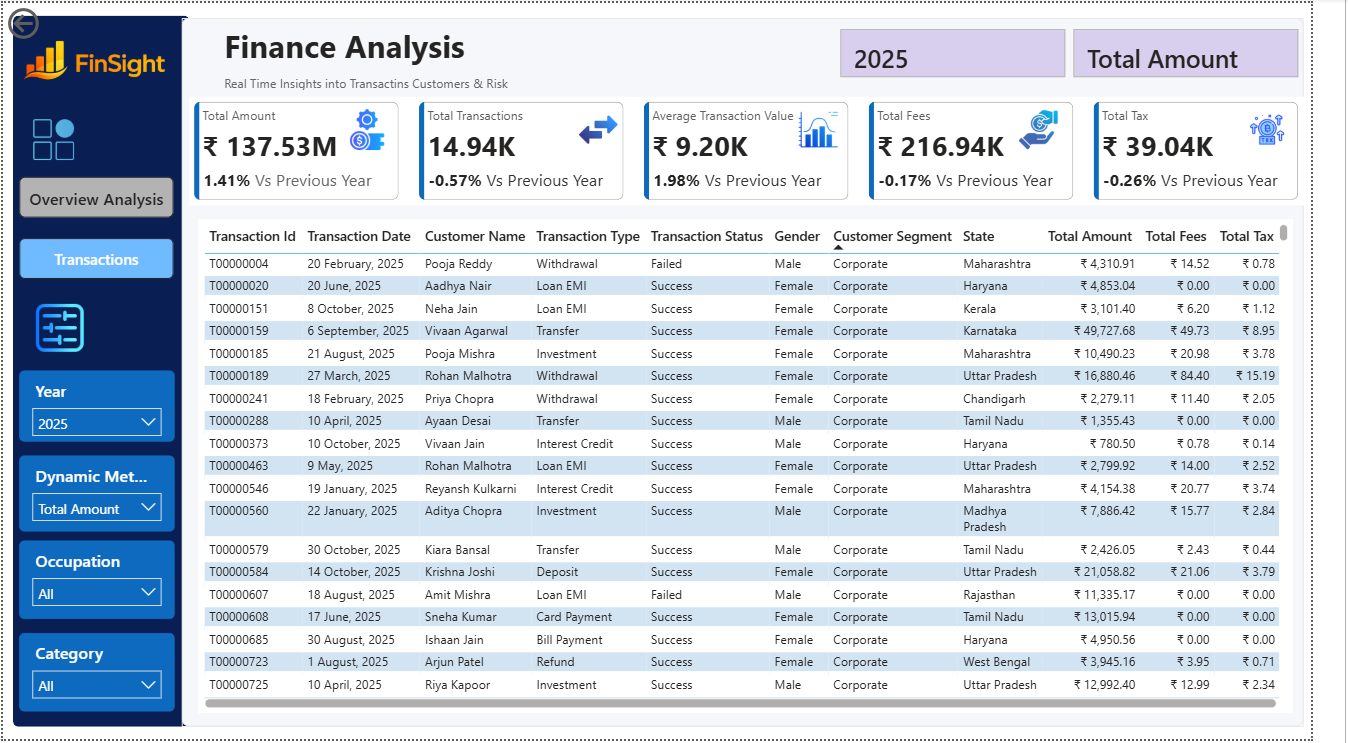

The dashboard page shown, as its layout file describes it:
{"tool":"powerbi","page":{"name":"Transactions ","canvas":[1280,720],"ordinal":1},"visuals":[{"type":"shape","box":[9.8,12.2,172.4,695.8],"z":0},{"type":"shape","box":[175.2,15.1,1097.5,693.1],"z":1000},{"type":"image","box":[9.8,20.8,162.6,70.9],"z":2000},{"type":"cardVisual","fields":{"Data":["finance_transactions.Dashboard Title"]},"box":[199.3,17.1,313,73],"z":3000},{"type":"cardVisual","fields":{"Data":["finance_transactions.Total Amount","finance_transactions.Total Transactions","finance_transactions.Average Transaction Value","finance_transactions.Total Fees","finance_transactions.Total Tax"]},"box":[182.2,91.7,1090.8,106.4],"z":4000},{"type":"image","box":[331.4,99,50.1,50.1],"z":5000},{"type":"image","box":[557.6,99,50.1,50.1],"z":6000},{"type":"image","box":[988,99,50.1,50.1],"z":7000},{"type":"image","box":[772.8,99,50.1,50.1],"z":8000},{"type":"image","box":[1211.8,99,50.1,50.1],"z":9000},{"type":"shape","box":[190.8,211.6,1071.2,483],"z":10000},{"type":"cardVisual","fields":{"Data":["finance_transactions.Selected Year","finance_transactions.Selected Dynamic Measure"]},"box":[814.6,21.3,458.1,57.7],"z":11000},{"type":"tableEx","fields":{"Values":["finance_transactions.transaction_id","finance_transactions.transaction_date","customers.Customer_name","finance_transactions.transaction_type","finance_transactions.transaction_status","customers.gender","customers.customer_segment","customers.state","finance_transactions.Total Amount","finance_transactions.Total Fees","finance_transactions.Total Tax"]},"box":[190.8,211.6,1071.2,483],"z":12000},{"type":"actionButton","box":[0,0,100,40],"z":13000},{"type":"slicer","fields":{"Values":["Calendar Table.Year"]},"box":[15.9,359.5,151.6,69.7],"z":14000},{"type":"slicer","fields":{"Values":["Dynamic Metric.Dynamic Metric"]},"box":[15.9,442.7,151.6,74.6],"z":15000},{"type":"slicer","fields":{"Values":["customers.occupation"]},"box":[15.9,525.8,151.6,77],"z":16000},{"type":"slicer","fields":{"Values":["finance_transactions.merchant_category"]},"box":[15.9,616.3,151.6,77],"z":17000},{"type":"pageNavigator","box":[15.9,170,151.6,100.3],"z":18000},{"type":"image","box":[18.3,108.8,62.4,50.1],"z":19000},{"type":"image","box":[18.3,286.1,74.6,63.6],"z":20000}]}

Visuals, with their boxes on the page's 1280x720 design canvas (x1, y1, x2, y2). These are canvas units, not pixel positions in the 1348x743 screenshot, which may show the page scaled, cropped or inside an application window:
shape: box(10, 12, 182, 708)
shape: box(175, 15, 1273, 708)
image: box(10, 21, 172, 92)
cardVisual - finance_transactions.Dashboard Title: box(199, 17, 512, 90)
cardVisual - finance_transactions.Total Amount x finance_transactions.Total Transactions: box(182, 92, 1273, 198)
image: box(331, 99, 382, 149)
image: box(558, 99, 608, 149)
image: box(988, 99, 1038, 149)
image: box(773, 99, 823, 149)
image: box(1212, 99, 1262, 149)
shape: box(191, 212, 1262, 695)
cardVisual - finance_transactions.Selected Year x finance_transactions.Selected Dynamic Measure: box(815, 21, 1273, 79)
tableEx - finance_transactions.transaction_id x finance_transactions.transaction_date: box(191, 212, 1262, 695)
actionButton: box(0, 0, 100, 40)
slicer - Calendar Table.Year: box(16, 360, 168, 429)
slicer - Dynamic Metric.Dynamic Metric: box(16, 443, 168, 517)
slicer - customers.occupation: box(16, 526, 168, 603)
slicer - finance_transactions.merchant_category: box(16, 616, 168, 693)
pageNavigator: box(16, 170, 168, 270)
image: box(18, 109, 81, 159)
image: box(18, 286, 93, 350)
